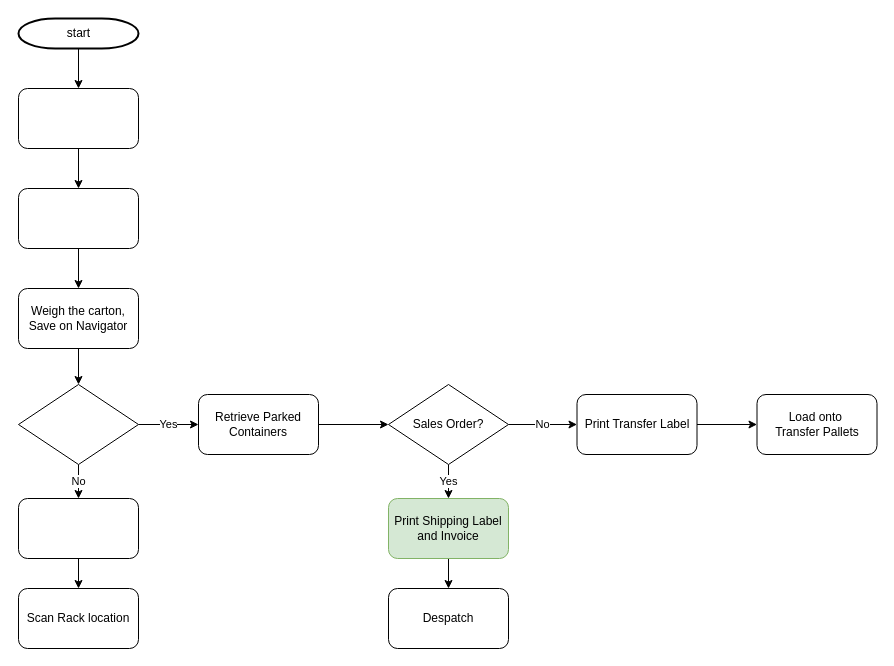
Some shapes in this 894 by 666 pixel diagram are drawn without their labels. The box of each missing label's shape, as (x1, y1, x2, y2) in pixels:
Final Carton?: (18, 384, 138, 464)
Open Sorting Station Interface: (18, 88, 138, 148)
Park Container on Rack: (18, 498, 138, 558)
Scan Pick Marker: (18, 188, 138, 248)
